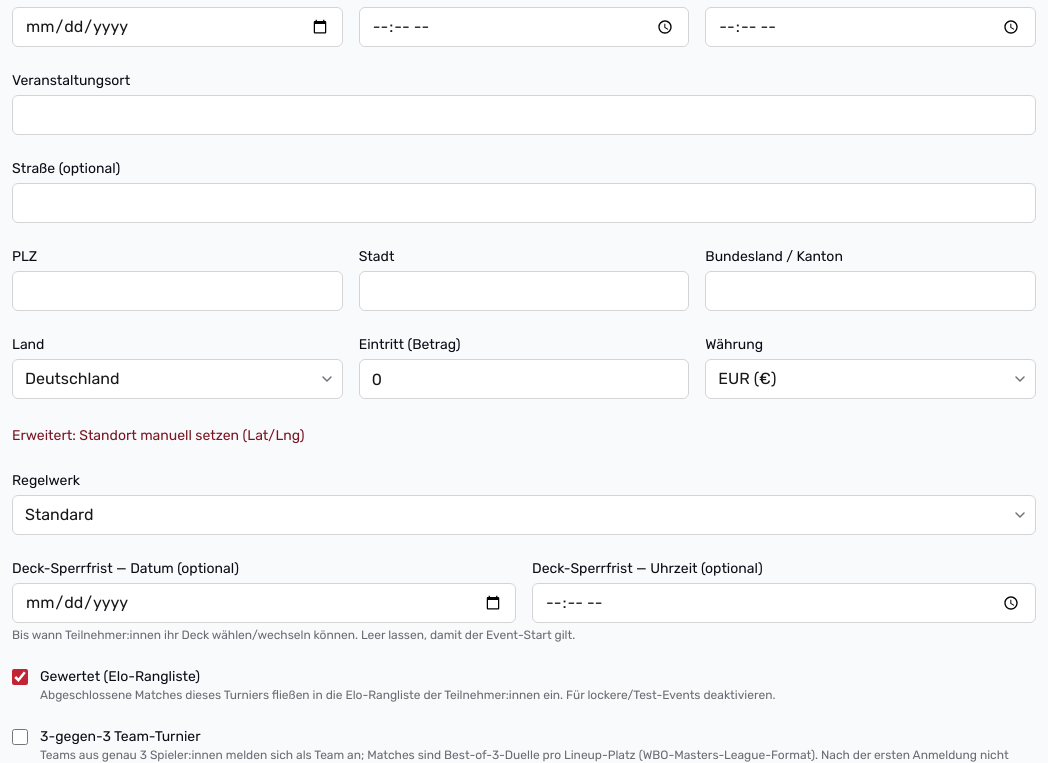
TournamentForm — currency auto-selected by country (Phase 9) › defaults the currency from EUR to CHF when the country changes to Schweiz, and back for AT
(page scrolled)
Expected: the dropdown labelled "Währung" shows "EUR (€)", top-left (705, 359), bottom-right (1036, 399)
Select "Schweiz" in the dropdown labelled "Land": (177, 379) top-left (12, 359), bottom-right (343, 399)
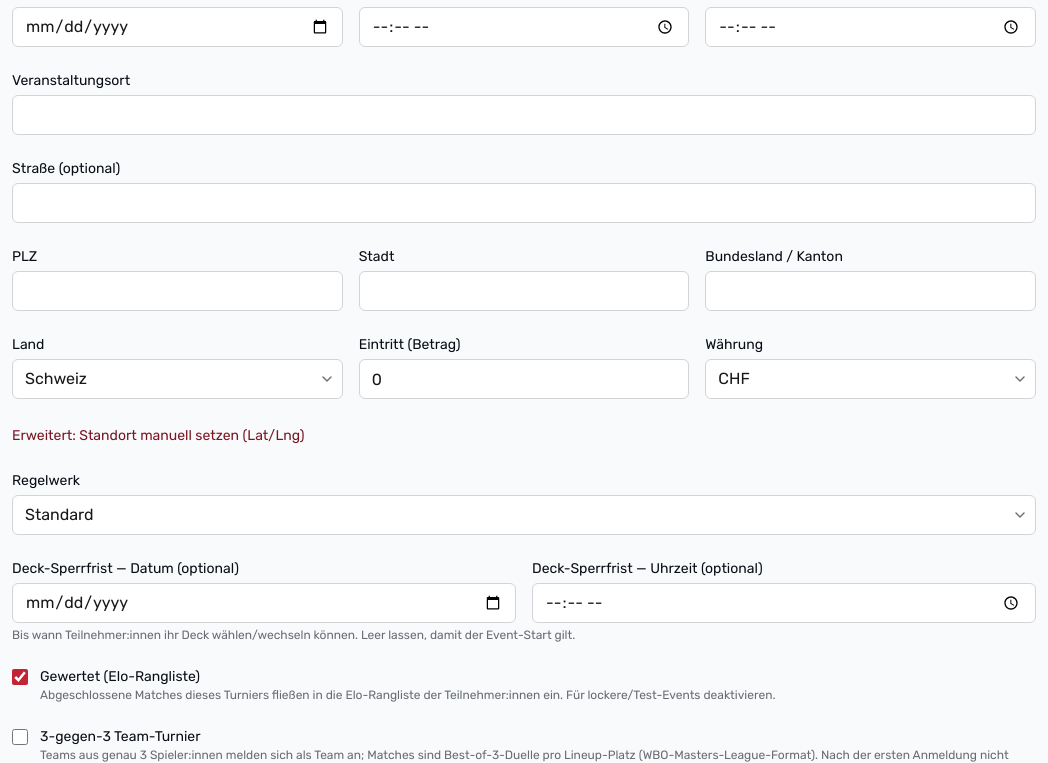
Now the dropdown labelled "Währung" shows "CHF", box top-left (705, 359), bottom-right (1036, 399)
Select "Österreich" in the dropdown labelled "Land": (177, 379) top-left (12, 359), bottom-right (343, 399)
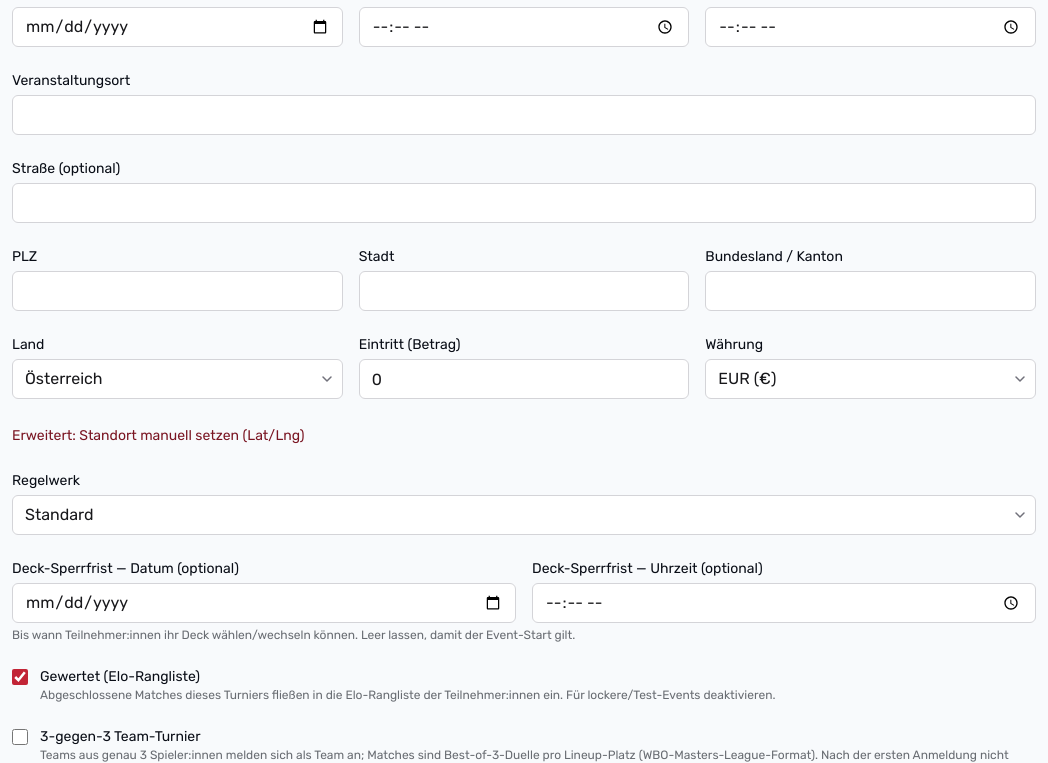
Now the dropdown labelled "Währung" shows "EUR (€)", box top-left (705, 359), bottom-right (1036, 399)
